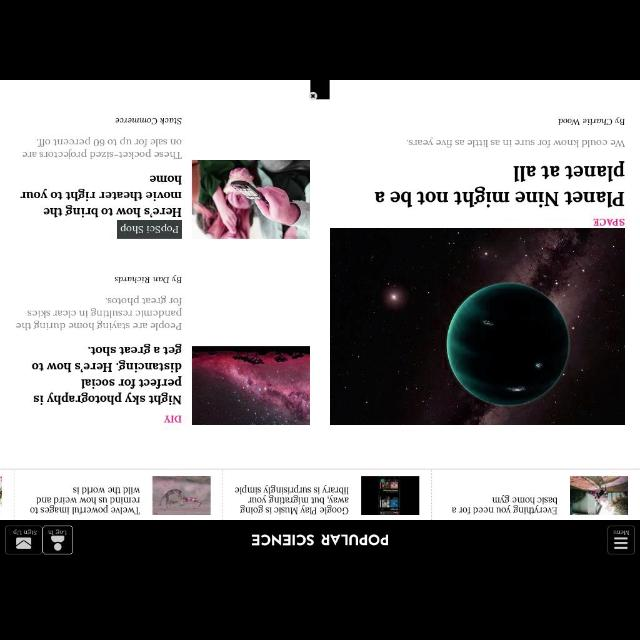button: (6, 526, 38, 554), (44, 526, 72, 554), (608, 525, 634, 553)
icon: (614, 536, 628, 550), (50, 536, 64, 550), (15, 537, 30, 549)
image: (330, 229, 624, 425), (192, 346, 310, 426), (192, 160, 308, 238), (570, 476, 628, 516), (361, 476, 419, 516), (153, 478, 210, 514)
text: (373, 160, 623, 207), (30, 346, 182, 406), (21, 174, 182, 218), (16, 294, 182, 330), (22, 136, 182, 160), (236, 485, 348, 515), (30, 487, 140, 515), (452, 494, 558, 516), (405, 138, 625, 148), (252, 532, 390, 546), (112, 274, 182, 284), (556, 116, 626, 126), (120, 222, 178, 234), (116, 115, 182, 125), (593, 218, 625, 226), (162, 413, 182, 422), (13, 530, 37, 536), (47, 530, 67, 536), (614, 530, 628, 536)
